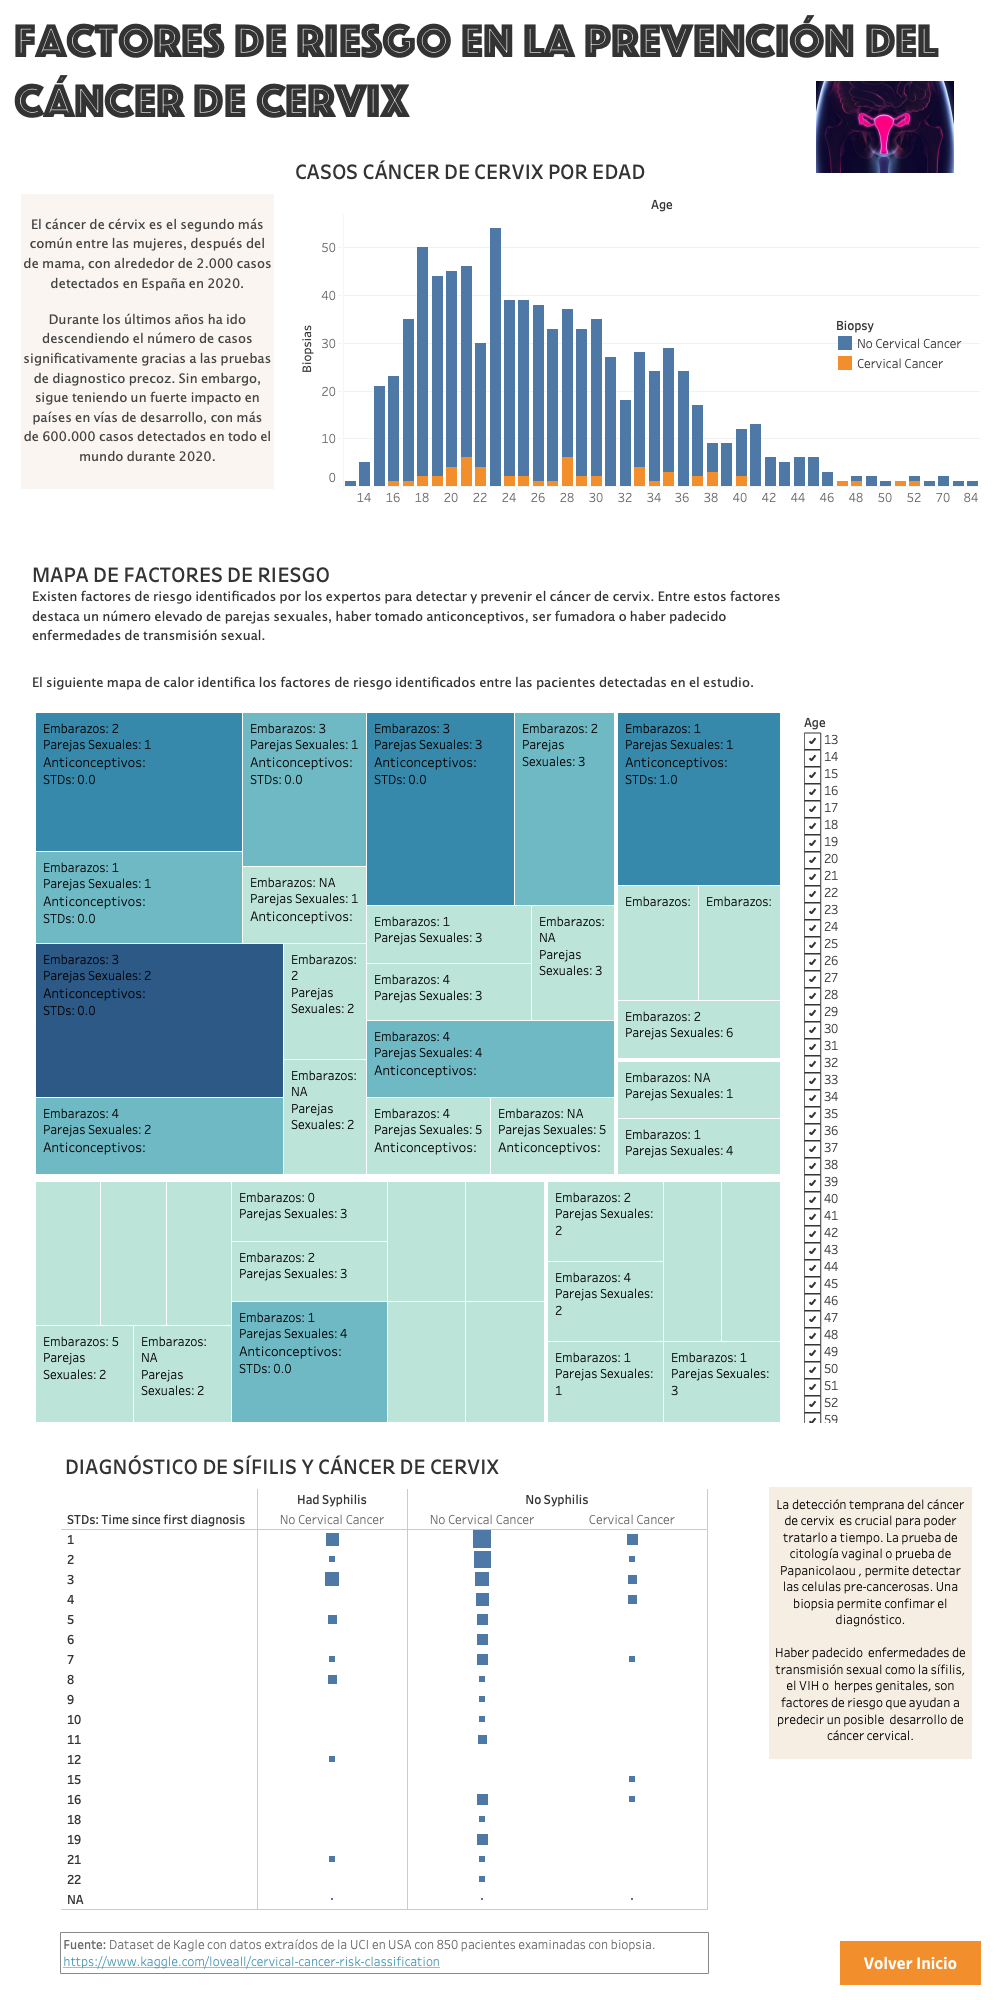

Layout of this report page (visuals, bound fields, positions):
{"tool":"tableau","page":{"name":"PRA","canvas":[1000,2000],"ordinal":0},"visuals":[{"type":"worksheet","box":[0,0,1000,2000]},{"type":"worksheet","param":"vert","box":[8,8,984,1984]},{"type":"worksheet","box":[8,8,984,126]},{"type":"worksheet","param":"/Users/ignaciofernandezestebanez/Downloads/cancer_cervix_nuevo_test.jpg","box":[787,81,196,92]},{"type":"worksheet","param":"vert","box":[8,134,984,1858]},{"type":"worksheet","box":[8,134,984,1858]},{"type":"worksheet","title":"Casos por Edad","mark":"Automatic","rows":["risk_factors.csv_38B2BF719C3447008F35D33DAADA499D"],"cols":["Age"],"box":[291,151,689,356]},{"type":"worksheet","box":[21,194,253,295]},{"type":"worksheet","title":"Casos por Edad","mark":"Automatic","rows":["risk_factors.csv_38B2BF719C3447008F35D33DAADA499D"],"cols":["Age"],"param":"[federated.05z8b7e0rfstv01h02r6t1f1yxzi].[none:Biopsy:ok]","box":[835,315,140,70]},{"type":"worksheet","title":"Factores Riesgo","mark":"Automatic","box":[28,554,759,875]},{"type":"worksheet","title":"Factores Riesgo","mark":"Automatic","param":"[federated.05z8b7e0rfstv01h02r6t1f1yxzi].[none:Age:ok]","box":[804,713,124,710]},{"type":"worksheet","title":"Syphilis vs Cervical","mark":"Automatic","rows":[" Time since first diagnosis"],"cols":["syphilis","Biopsy"],"box":[61,1446,699,475]},{"type":"worksheet","box":[769,1487,203,272]},{"type":"worksheet","box":[60,1932,649,42]},{"type":"worksheet","box":[840,1941,141,44]}]}

Visuals, with their boxes in screenshot pixels (x1, y1, x2, y2), scaled from the page's 1000x2000 canvas onto the 1000x2000 screenshot:
worksheet: <bbox>0, 0, 999, 1999</bbox>
worksheet: <bbox>8, 8, 992, 1992</bbox>
worksheet: <bbox>8, 8, 992, 134</bbox>
worksheet: <bbox>787, 81, 983, 173</bbox>
worksheet: <bbox>8, 134, 992, 1992</bbox>
worksheet: <bbox>8, 134, 992, 1992</bbox>
"Casos por Edad" worksheet: <bbox>291, 151, 980, 507</bbox>
worksheet: <bbox>21, 194, 274, 489</bbox>
"Casos por Edad" worksheet: <bbox>835, 315, 975, 385</bbox>
"Factores Riesgo" worksheet: <bbox>28, 554, 787, 1429</bbox>
"Factores Riesgo" worksheet: <bbox>804, 713, 928, 1423</bbox>
"Syphilis vs Cervical" worksheet: <bbox>61, 1446, 760, 1921</bbox>
worksheet: <bbox>769, 1487, 972, 1759</bbox>
worksheet: <bbox>60, 1932, 709, 1974</bbox>
worksheet: <bbox>840, 1941, 981, 1985</bbox>
